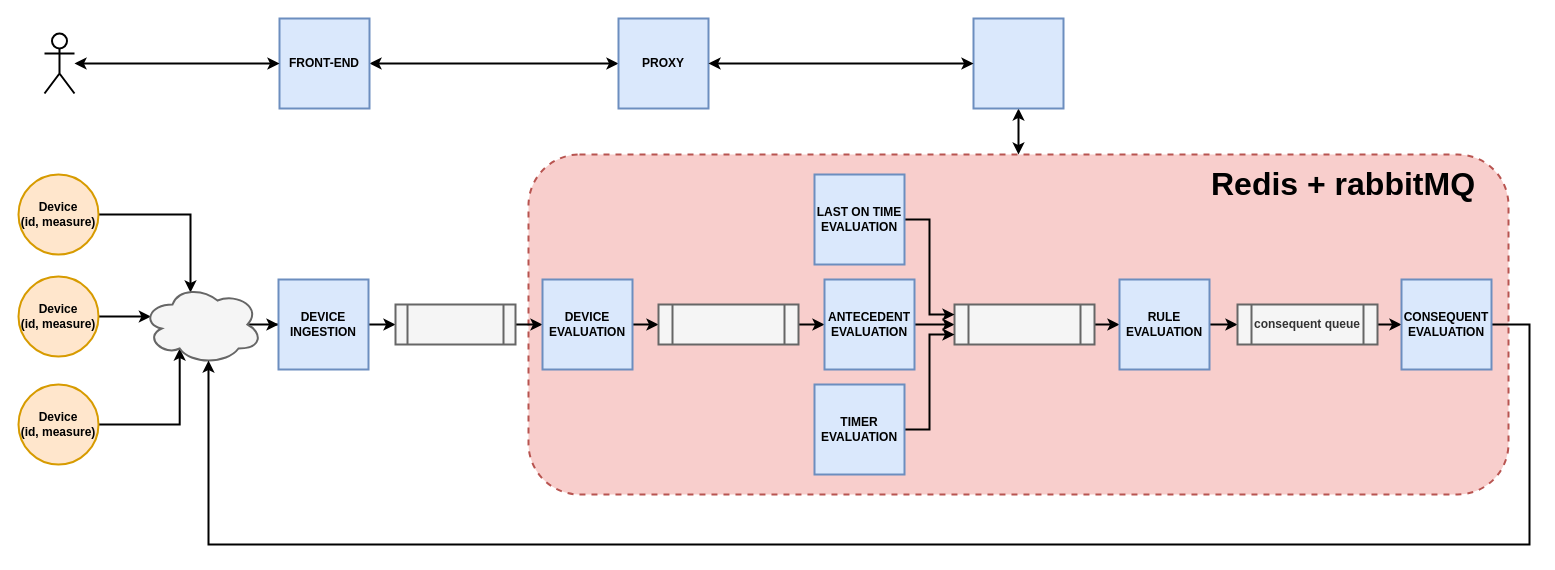
Image size: 1555x570. Some labels were removed from this diagram. Here are the shapes that lost their labels. From the top down, the centre of each, then its label:
point 59,63: Actor
point 1018,63: BACK-END
point 202,324: MQTT
point 455,324: device queue
point 728,324: antecedent queue
point 1024,324: rule queue
